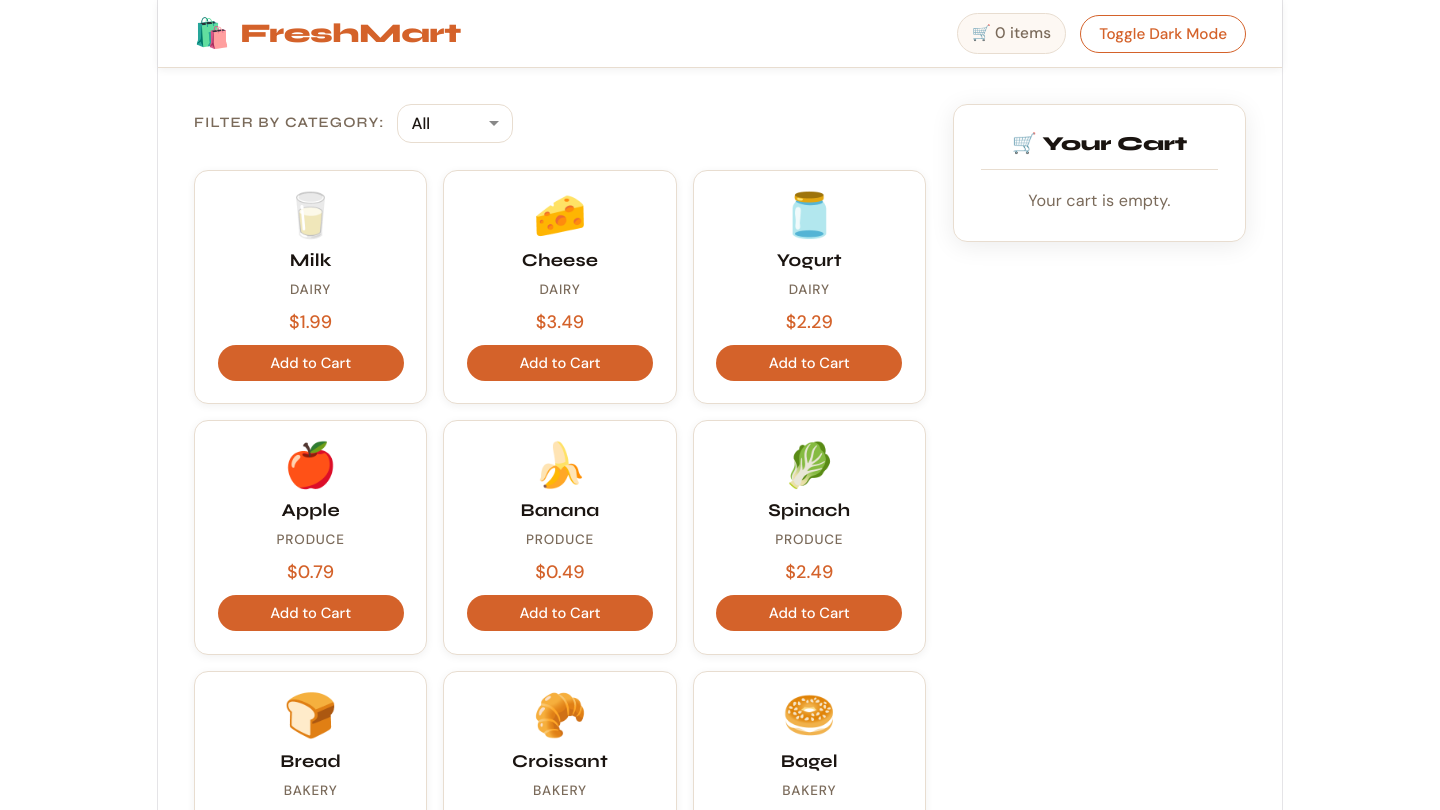
Dark Mode Toggle › toggles back to 'Toggle Dark Mode' on second click
This screenshot has width=1440, height=810.
Step 1. Click the button "Toggle Dark Mode" → (1163, 34), box [1080,14,1246,52]
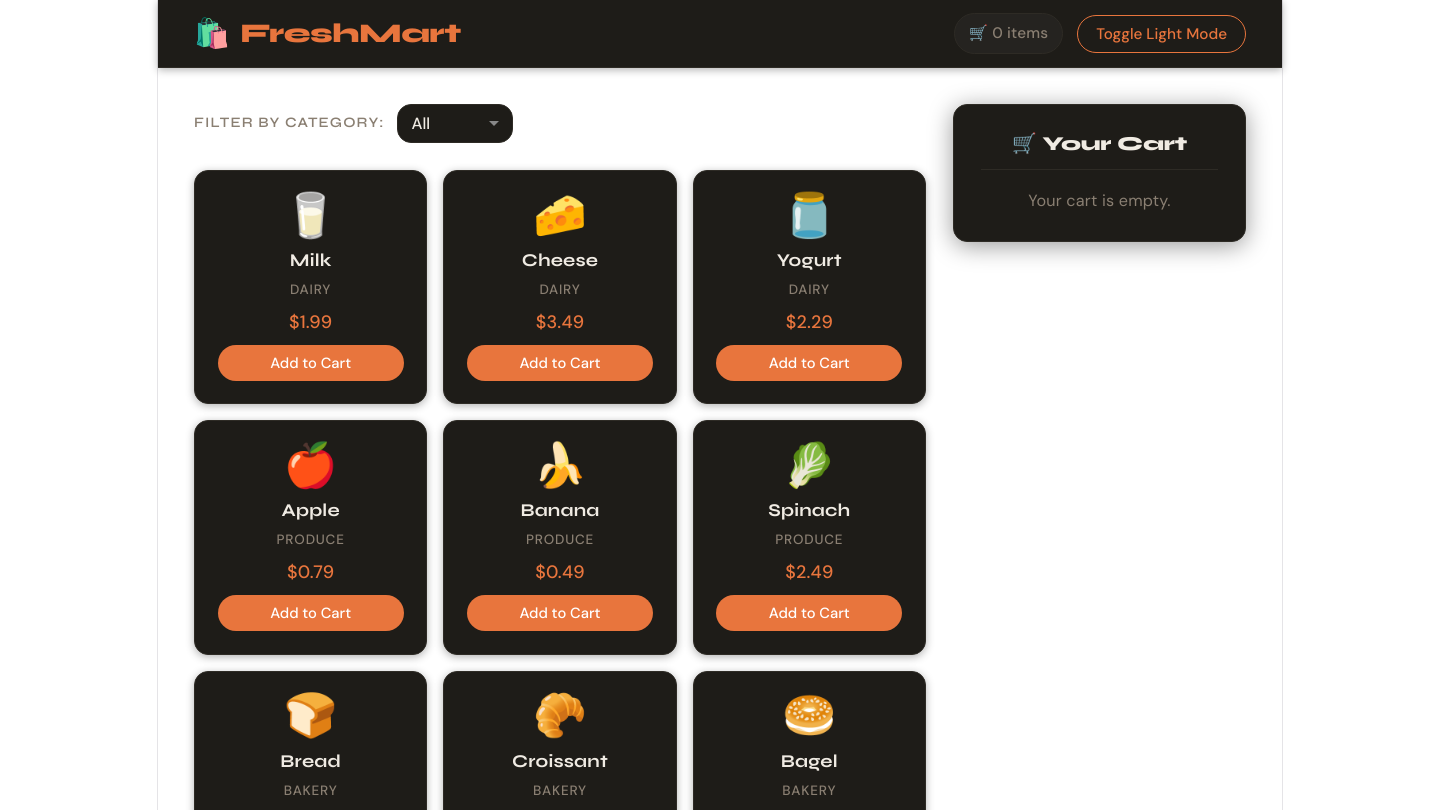
Step 2. Click the button "Toggle Light Mode" → (1162, 34), box [1077,14,1246,52]
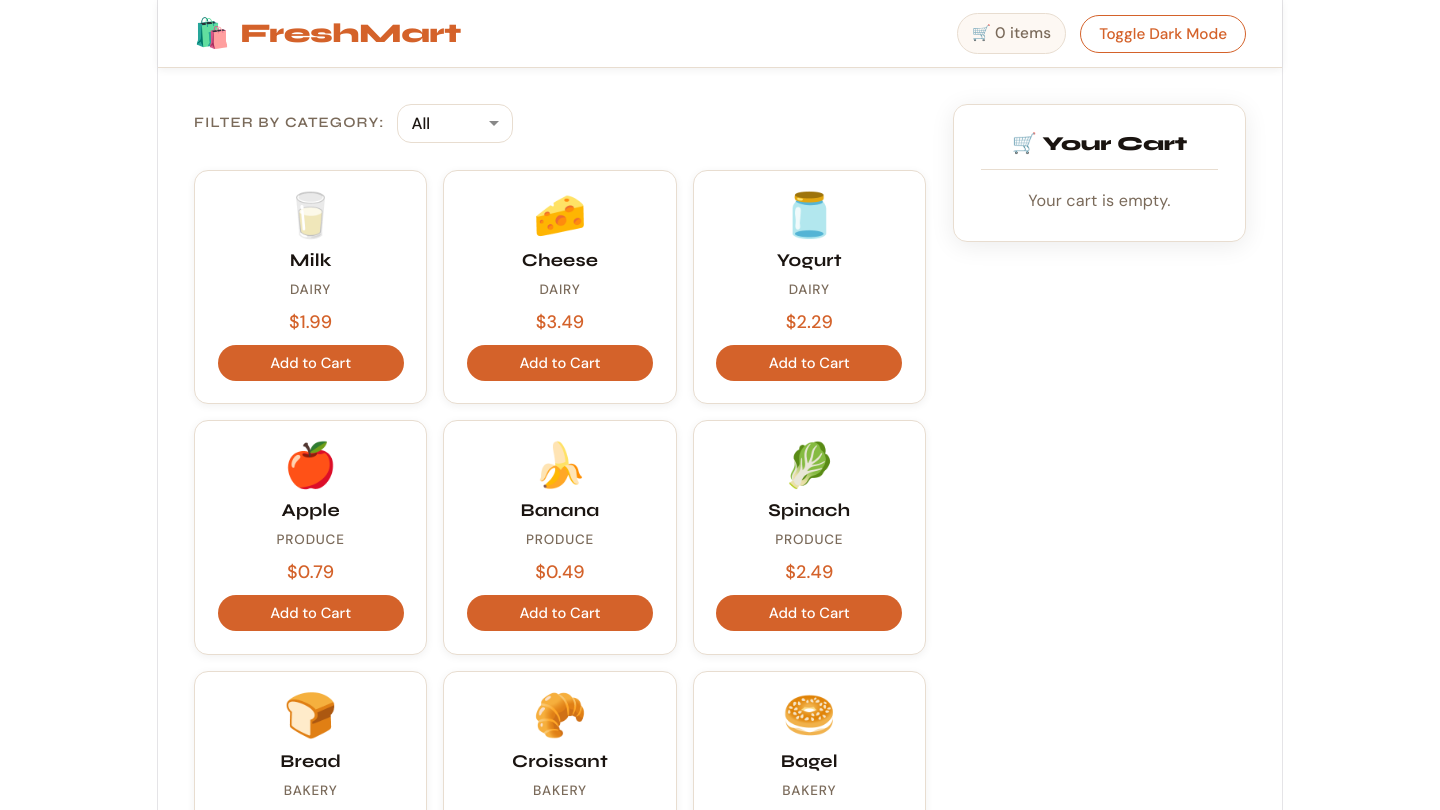
expect the button "Toggle Dark Mode" is shown: met, box [1080,14,1246,52]
